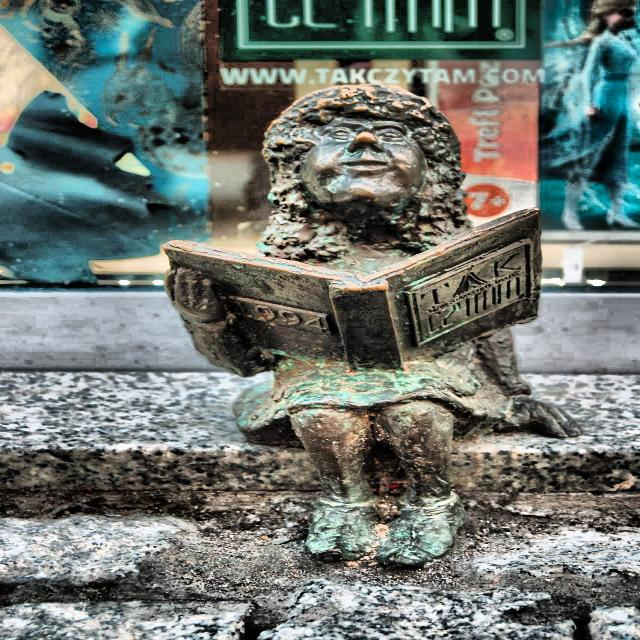Ksiegarka: (156, 76, 592, 575)
